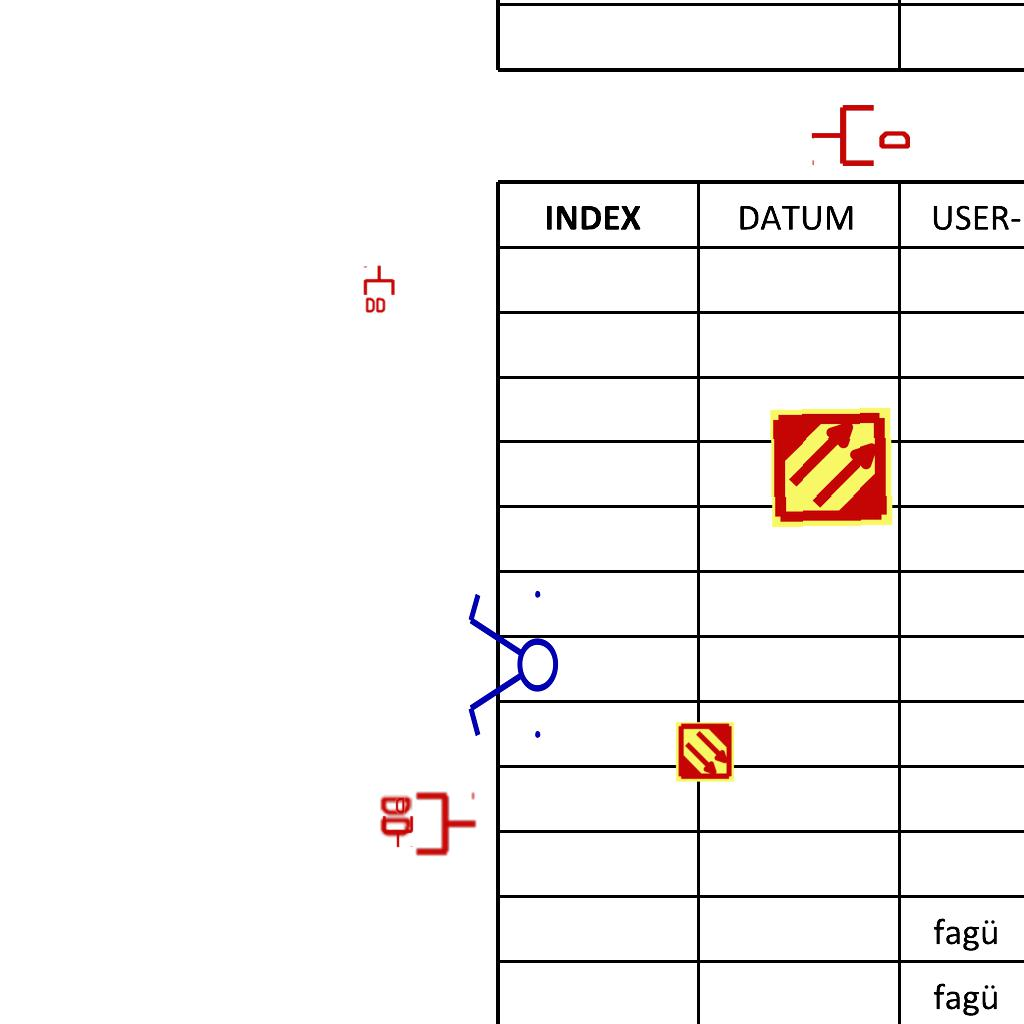ASR_Ansaugrauchmelder: (767, 403, 896, 532), (674, 721, 736, 783)
Datenanschluss_einfach: (810, 101, 910, 170), (381, 798, 415, 848)
Datenanschluss_zweifach: (376, 791, 479, 860), (363, 264, 397, 315)
Serienschalter: (464, 582, 560, 750)
